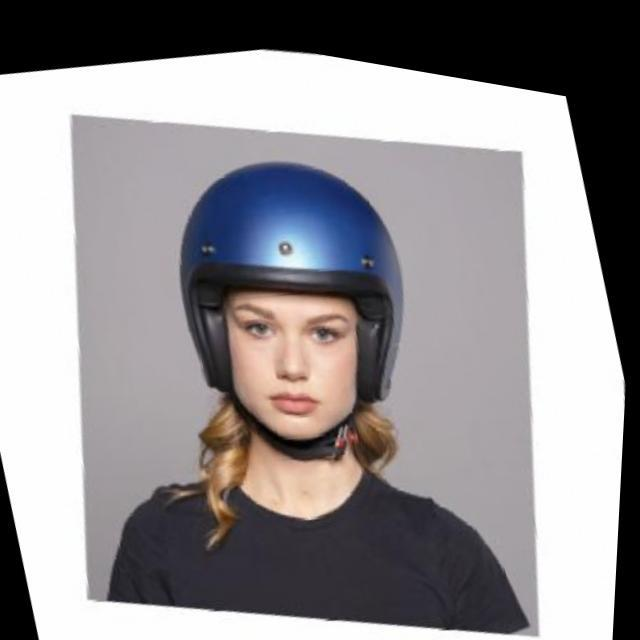Helmet: (170, 150, 412, 468)
